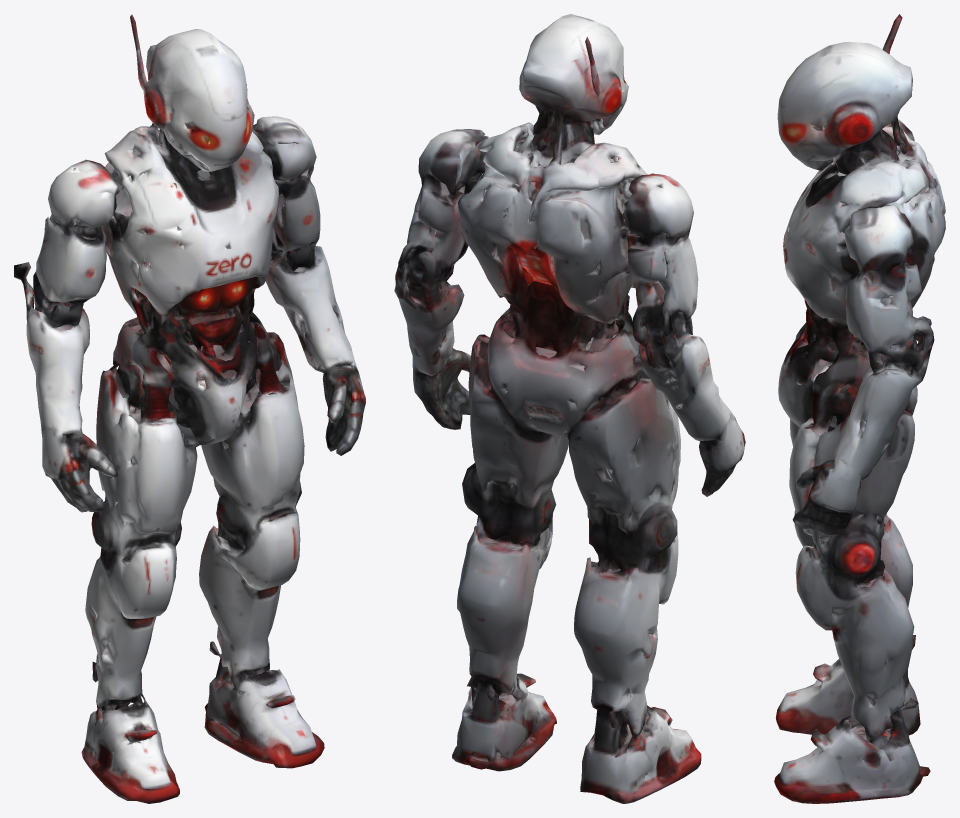
The model's file is Cybernetic_Sentinel_0223012454_texture.glb.
3 renders of one model, left to right at view 1: azimuth 30°, elevation 25°; view 2: azimuth 150°, elevation 25°; view 3: azimuth 270°, elevation 25°, orthographic. The views are drawn at different scales.
Size of the model in its own units: 0.9001 by 2.03 by 0.4375.
1 material, 1 textured.
